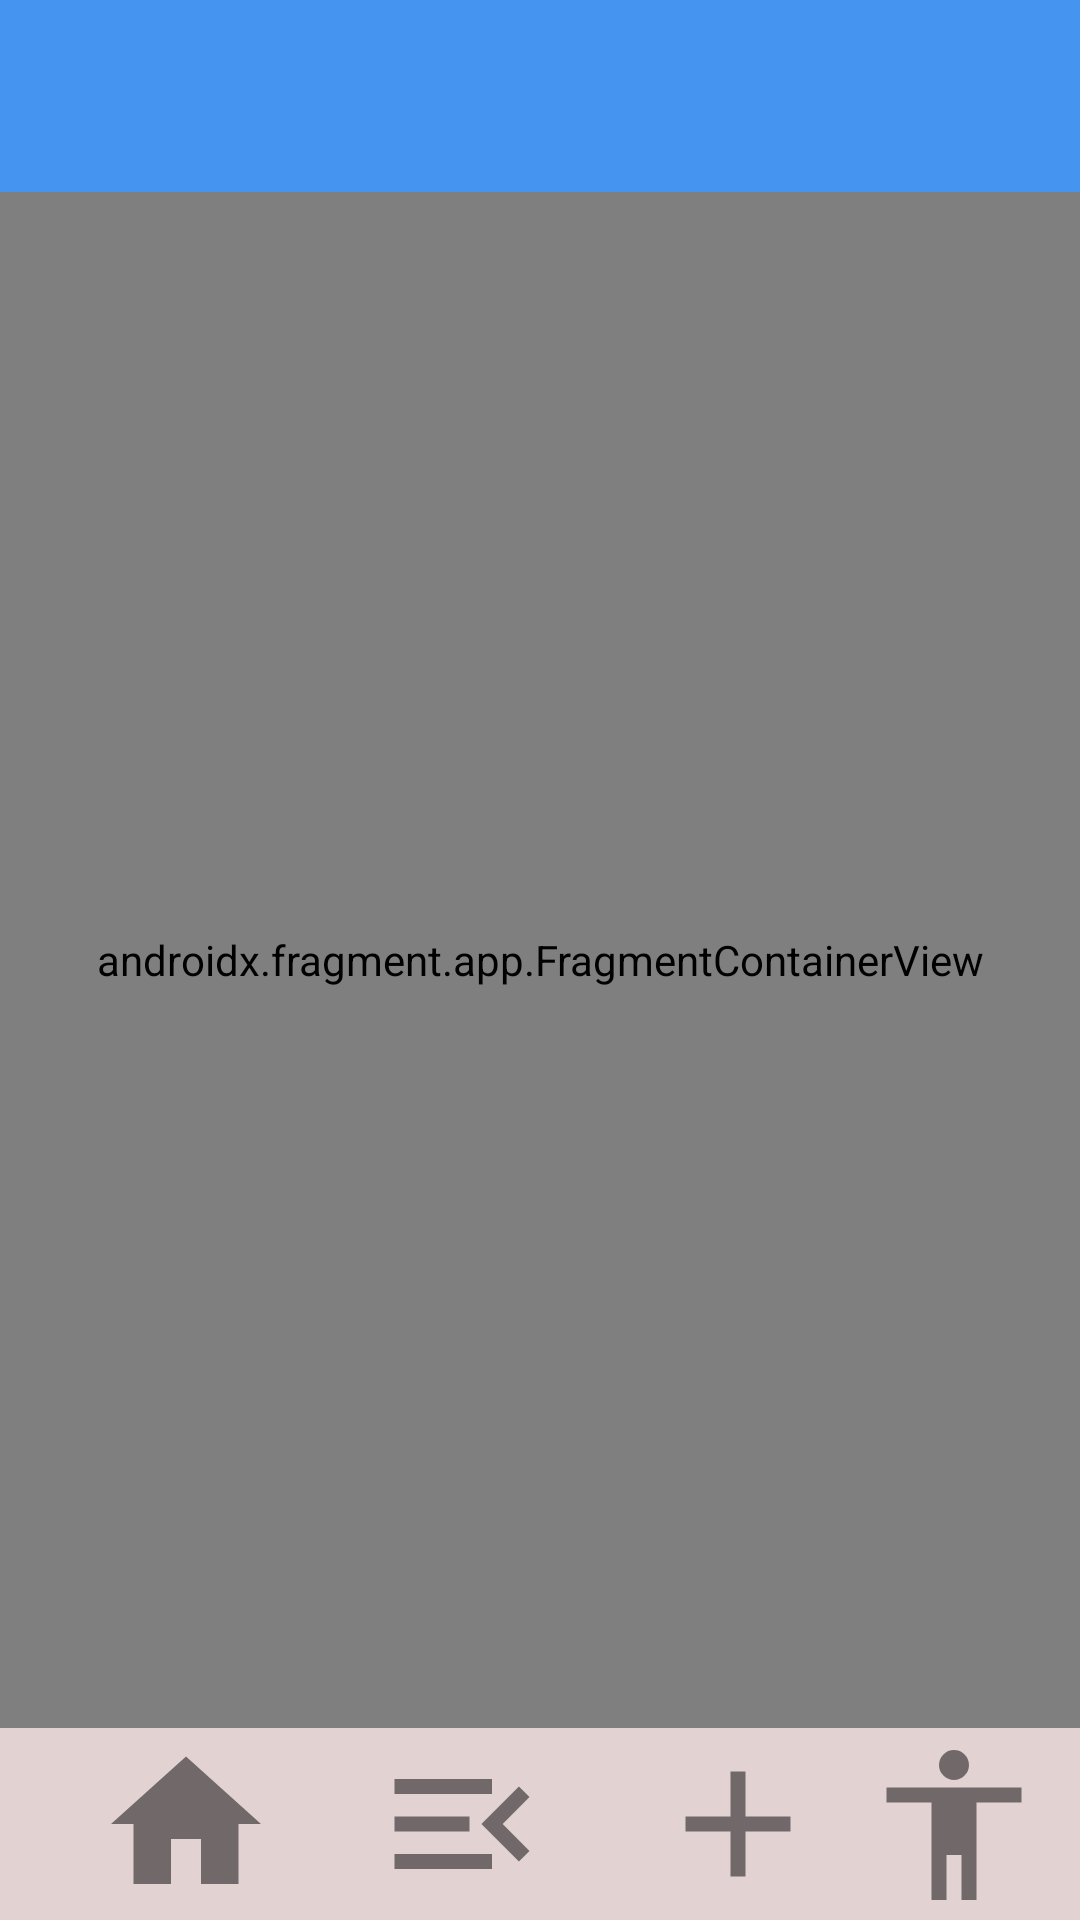

Point at icon controls on the screen. Image size 1080 × 1920, points as (x,y).
add: (738,1824)
home: (186,1820)
menu: (461,1824)
profile: (954,1825)
